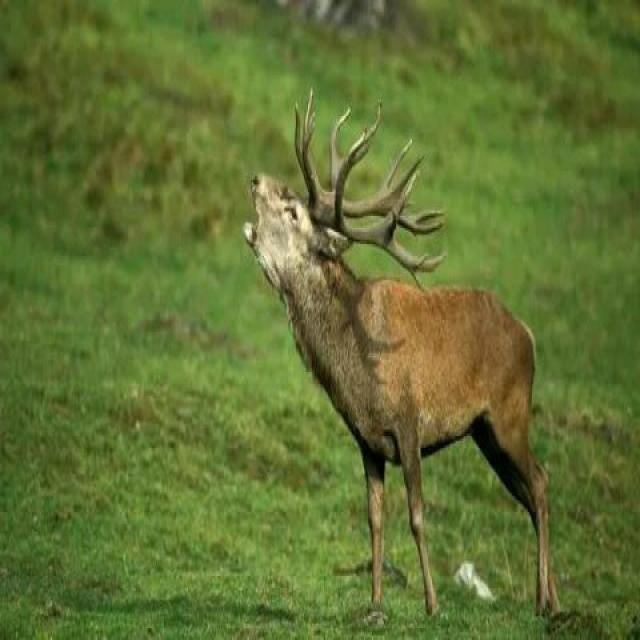deer: (220, 73, 546, 584)
